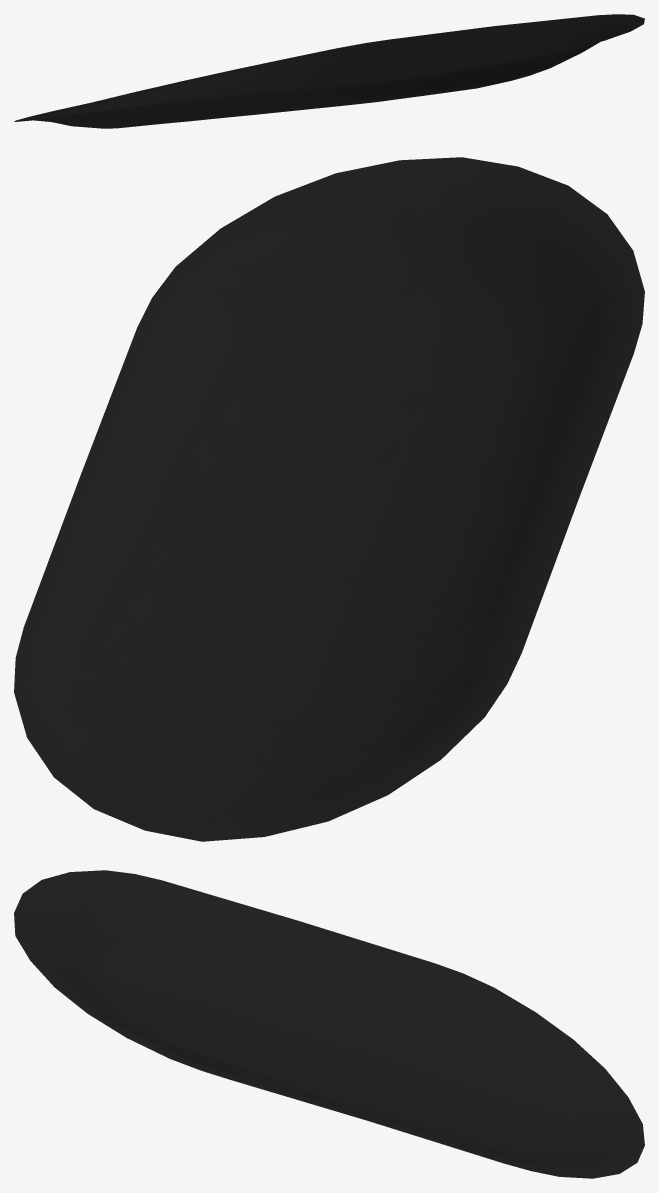
File: trackpad.obj
3 renders of one model, top to bottom at view 1: azimuth 30°, elevation 25°; view 2: azimuth 150°, elevation 25°; view 3: azimuth 270°, elevation 25°, orthographic. The views are drawn at different scales.
Visible parts, largest first — view 1: r_trackpad_125; view 2: r_trackpad_125; view 3: r_trackpad_125.
Boxes of the visible parts, x1,y1,x2,y2 form: r_trackpad_125: [14, 14, 644, 128]; r_trackpad_125: [14, 157, 644, 841]; r_trackpad_125: [14, 870, 644, 1178].
Size of the model in its own units: 0.0192 by 0.0117 by 0.0266.
Materials: 1 (1 with a texture image).
